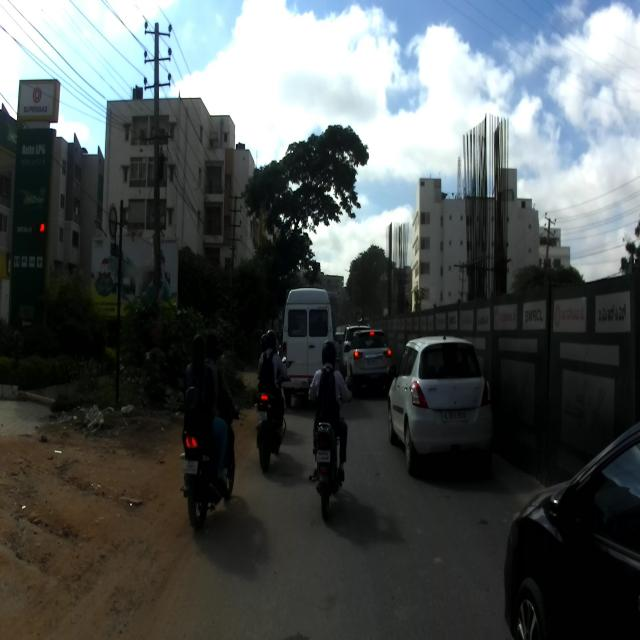Car_Maruti-Suzuki: (386, 322, 494, 477), (346, 328, 391, 392)
mini-bus: (282, 287, 334, 391)
motorcycle: (254, 360, 292, 470)
motorcycle_Hero: (306, 377, 351, 519)
motorcycle_TVS: (179, 409, 240, 529)
